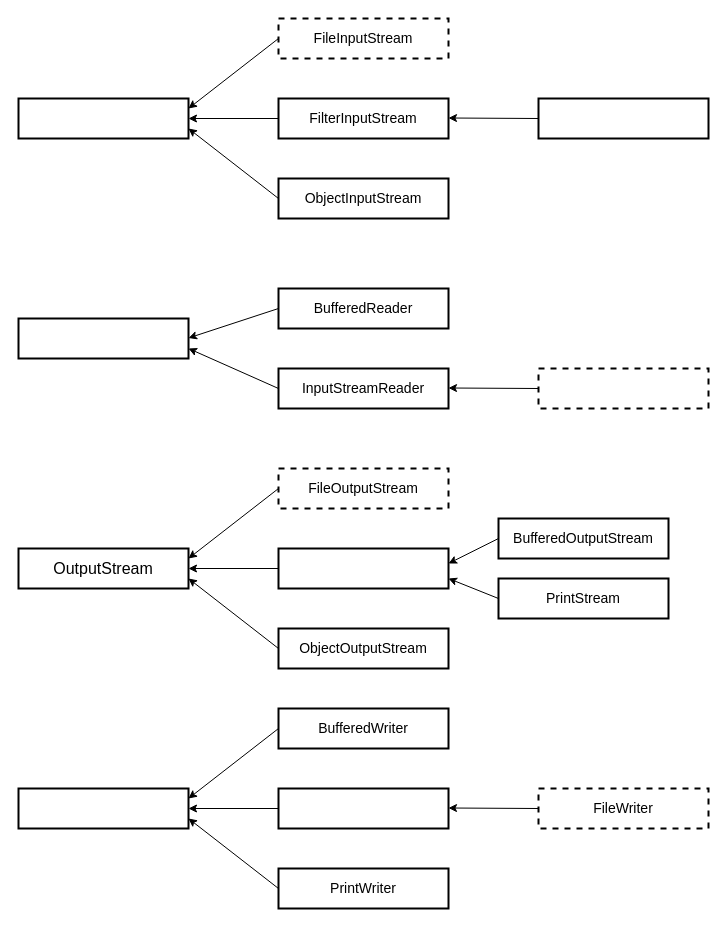
This 726x926 diagram has some shape labels left out. The shapes that lost their labels are listed below. From the top down, each one's box as (x1, y1, x2, y2) in pixels, then its label:
(17, 97, 189, 139): InputStream
(537, 97, 709, 139): BufferedInputStream
(17, 317, 189, 359): Reader
(537, 367, 709, 409): FileReader
(277, 547, 449, 589): FilterOutputStream
(17, 787, 189, 829): Writer
(277, 787, 449, 829): OutputStreamWriter
